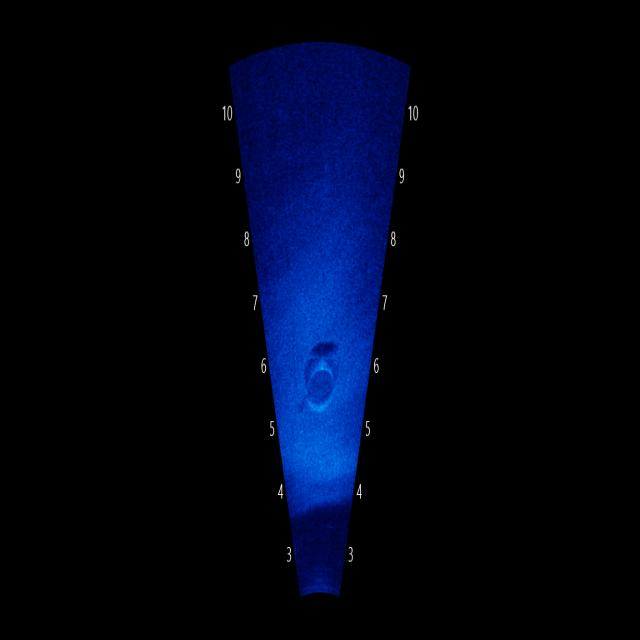circle: (291, 330, 344, 420)
